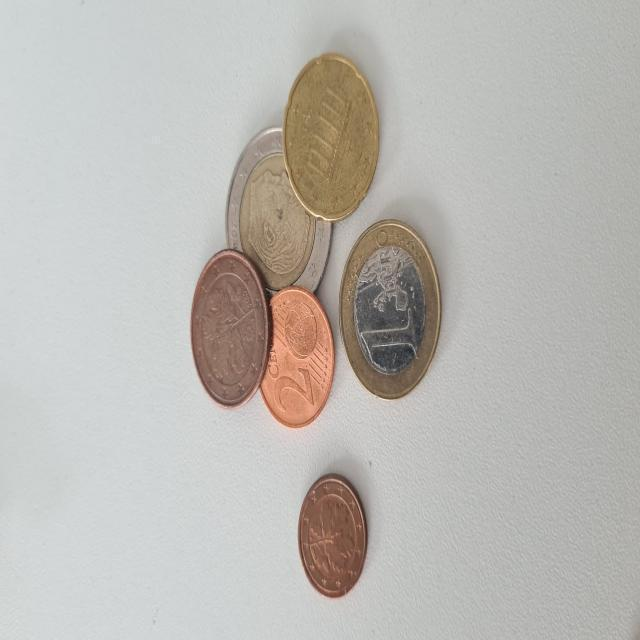1c: (292, 470, 373, 603)
1e: (338, 222, 450, 400)
20c: (280, 49, 389, 225)
2c: (260, 280, 336, 429)
2e: (219, 121, 338, 312)
5c: (188, 244, 274, 409)
